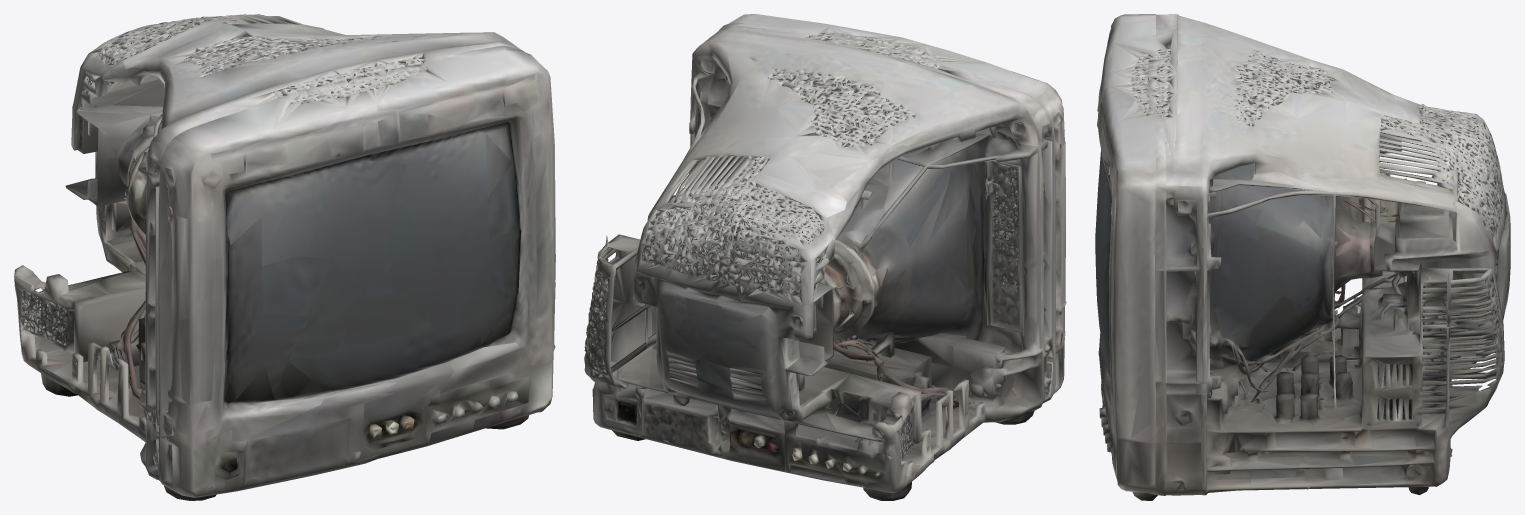
The model's file is crt02.glb.
3 views of the same model, side by side, from view 1: azimuth 30°, elevation 25°; view 2: azimuth 150°, elevation 25°; view 3: azimuth 270°, elevation 25° (orthographic). The views are drawn at different scales.
Parts seen in each view (by area): view 1: tripo_node_2c0575f8-3557-4e68-ad6e-5a45ad4a08e5; view 2: tripo_node_2c0575f8-3557-4e68-ad6e-5a45ad4a08e5; view 3: tripo_node_2c0575f8-3557-4e68-ad6e-5a45ad4a08e5.
Boxes of the visible parts, box(x1,y1,x2,y2) form: tripo_node_2c0575f8-3557-4e68-ad6e-5a45ad4a08e5: box(14, 14, 555, 500); tripo_node_2c0575f8-3557-4e68-ad6e-5a45ad4a08e5: box(584, 14, 1066, 500); tripo_node_2c0575f8-3557-4e68-ad6e-5a45ad4a08e5: box(1095, 14, 1510, 500).
Size of the model in its own units: 0.9786 by 0.9126 by 0.9794.
1 material, 1 textured.
